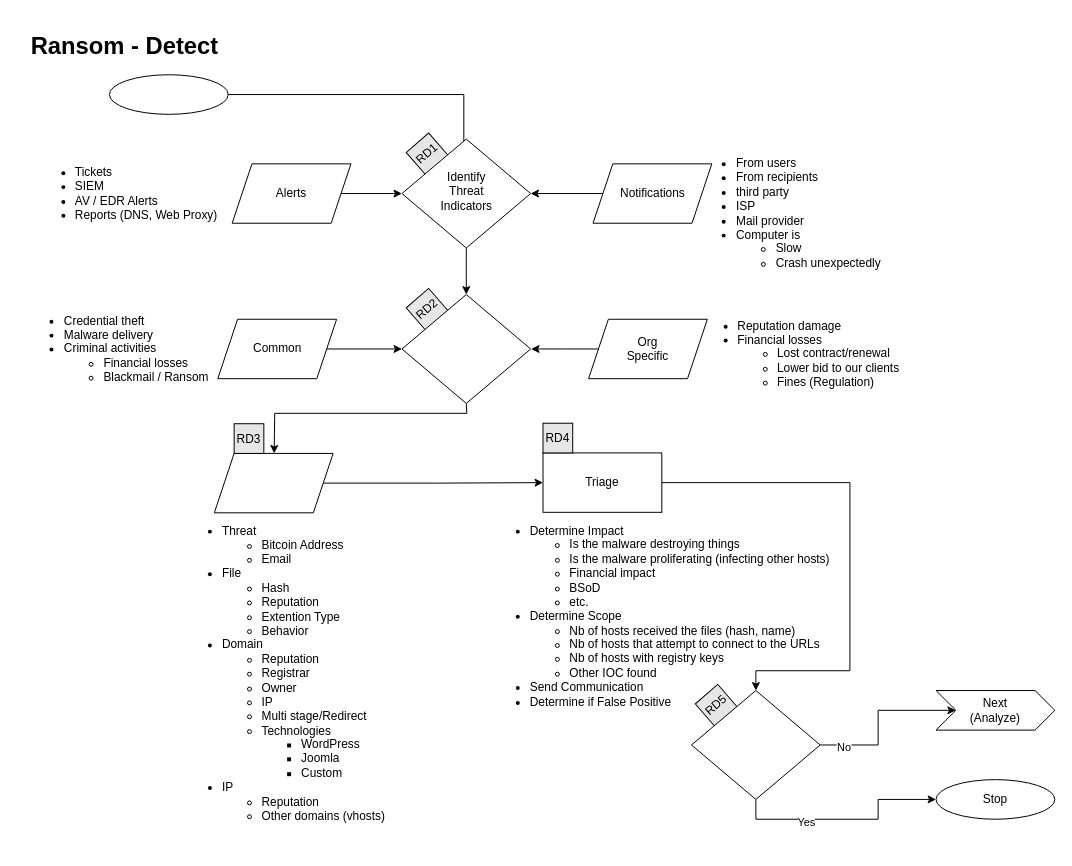
Image size: 1072x866. Some labels were removed from this diagram. Here are the shapes that lost their labels. From the top down, the box of each, then its label:
(108, 74, 228, 114): Start
(401, 294, 531, 403): Identify Risk Factors
(213, 452, 333, 513): Data Collection
(691, 690, 820, 799): False Positive
